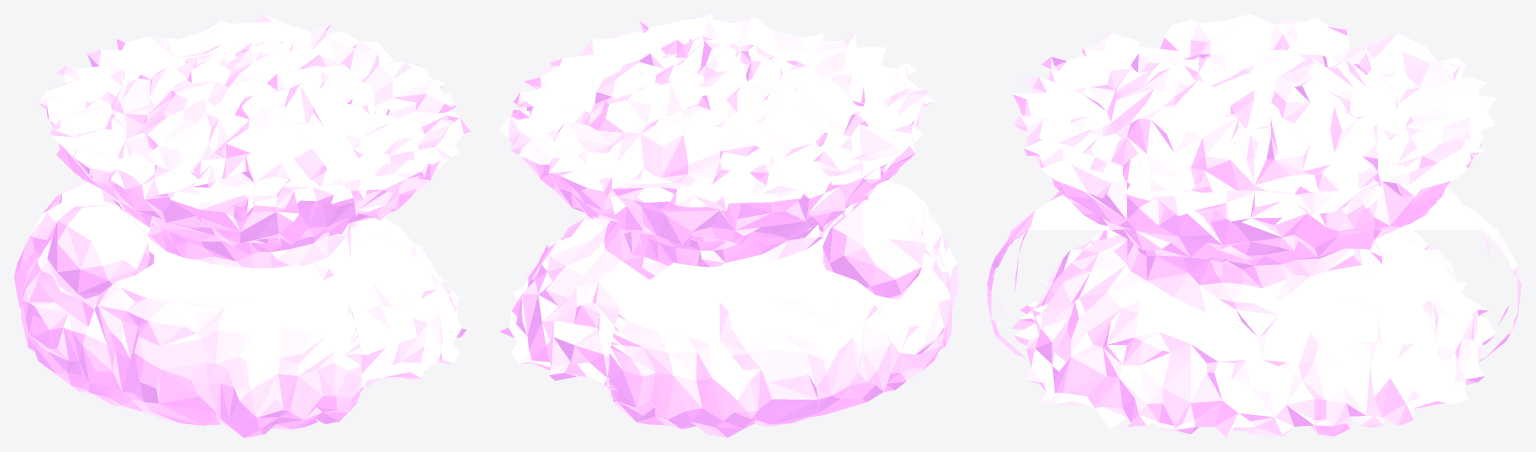
Rendered from star-uscorpii.glb.
3 renders of one model, left to right at view 1: azimuth 30°, elevation 25°; view 2: azimuth 150°, elevation 25°; view 3: azimuth 270°, elevation 25°, orthographic. The views are drawn at different scales.
Parts seen in each view (by area): view 1: U Scorpii.stl; view 2: U Scorpii.stl; view 3: U Scorpii.stl.
Boxes of the visible parts, bbox=[...] form: U Scorpii.stl: bbox=[14, 14, 470, 437]; U Scorpii.stl: bbox=[499, 14, 958, 437]; U Scorpii.stl: bbox=[987, 14, 1521, 437].
Size of the model in its own units: 118 by 89.49 by 126.
